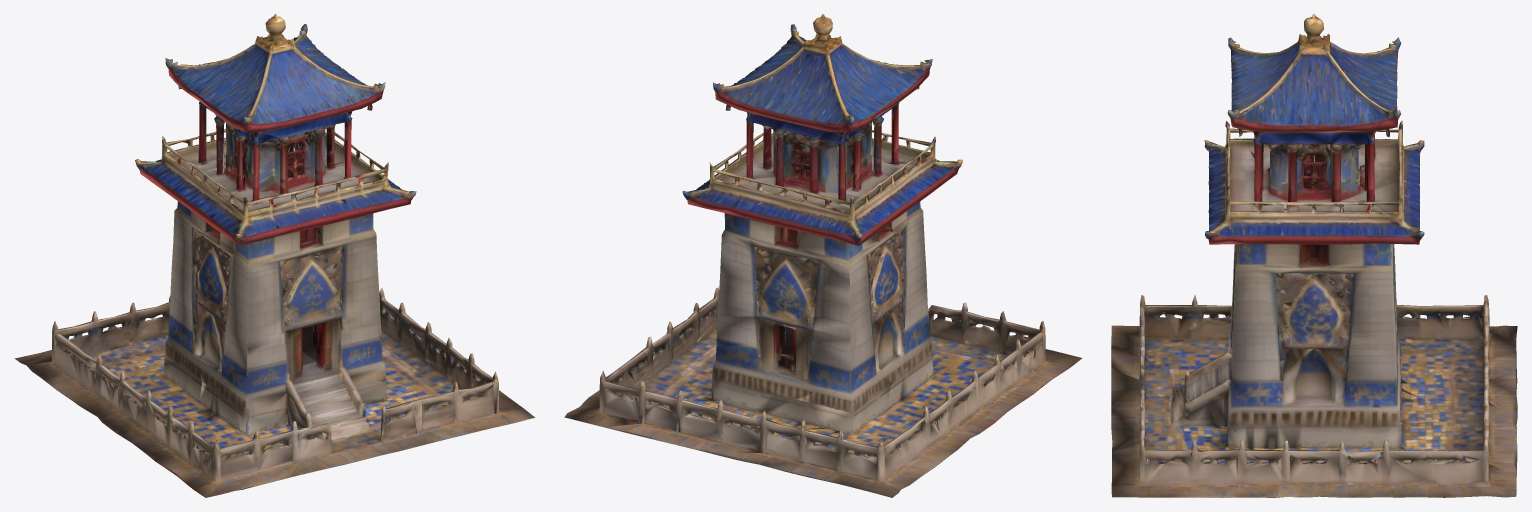
File: Ornate_Watchtower.glb
3 views of the same model, side by side, from view 1: azimuth 30°, elevation 25°; view 2: azimuth 150°, elevation 25°; view 3: azimuth 270°, elevation 25° (orthographic). The views are drawn at different scales.
Parts seen in each view (by area): view 1: Ornate_Watchtower; view 2: Ornate_Watchtower; view 3: Ornate_Watchtower.
Boxes of the visible parts, left/top/right/bottom form: Ornate_Watchtower: left=15, top=14, right=534, bottom=497; Ornate_Watchtower: left=564, top=14, right=1082, bottom=497; Ornate_Watchtower: left=1111, top=14, right=1517, bottom=497.
Size of the model in its own units: 1.74 by 1.88 by 1.73.
1 material, 1 textured.
